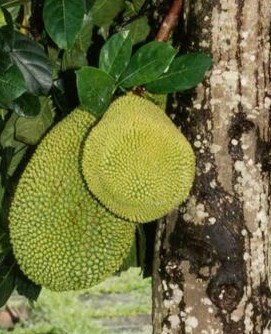jackfruit: (7, 103, 137, 292), (79, 93, 197, 225)
